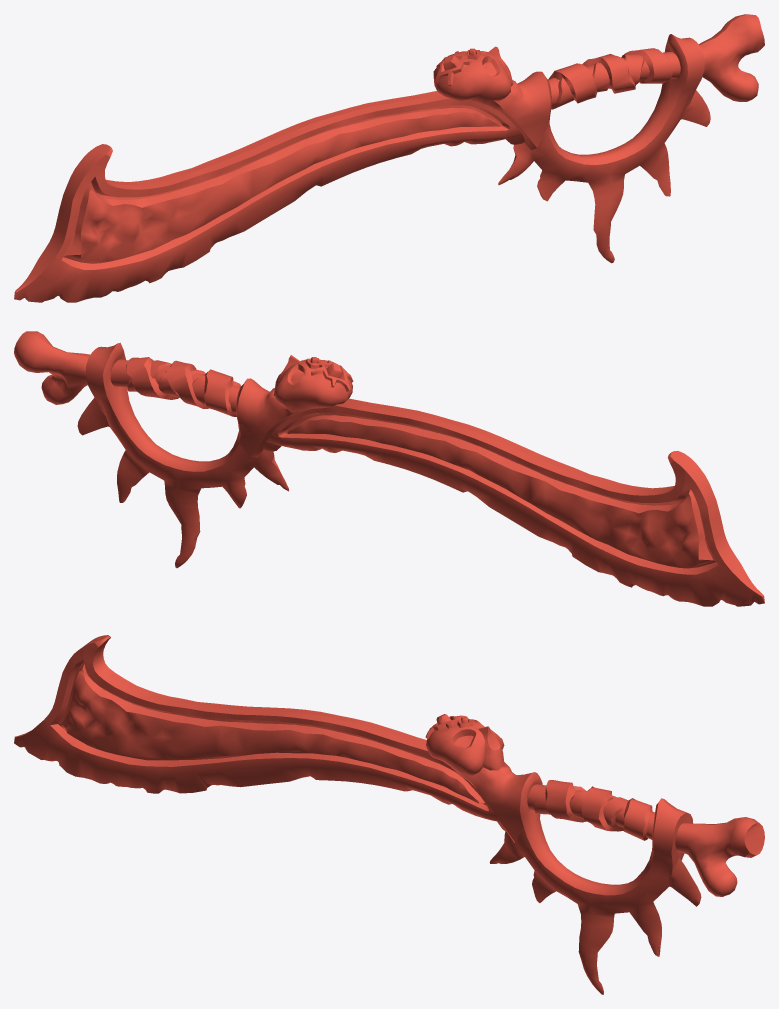
File: SM_Undead_Sword_2.fbx
3 renders of one model, top to bottom at view 1: azimuth 30°, elevation 25°; view 2: azimuth 150°, elevation 25°; view 3: azimuth 330°, elevation 25°, orthographic.
Visible parts, largest first — view 1: SM_Undead_Sword_2; view 2: SM_Undead_Sword_2; view 3: SM_Undead_Sword_2.
Boxes of the visible parts, x1=… form: SM_Undead_Sword_2: x1=14, y1=14, x2=764, y2=302; SM_Undead_Sword_2: x1=14, y1=331, x2=764, y2=606; SM_Undead_Sword_2: x1=14, y1=635, x2=764, y2=994.
Size of the model in its own units: 1.26 by 0.3973 by 0.098.
